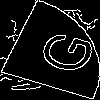G: (25, 25, 99, 78)
